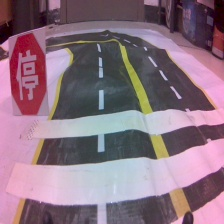stop: (8, 26, 51, 117)
